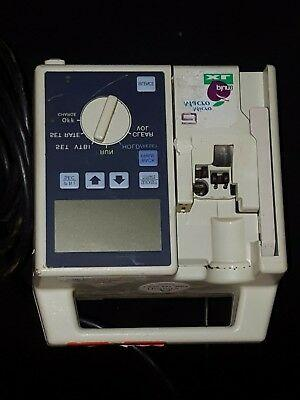plumxl1: (29, 53, 289, 345)
